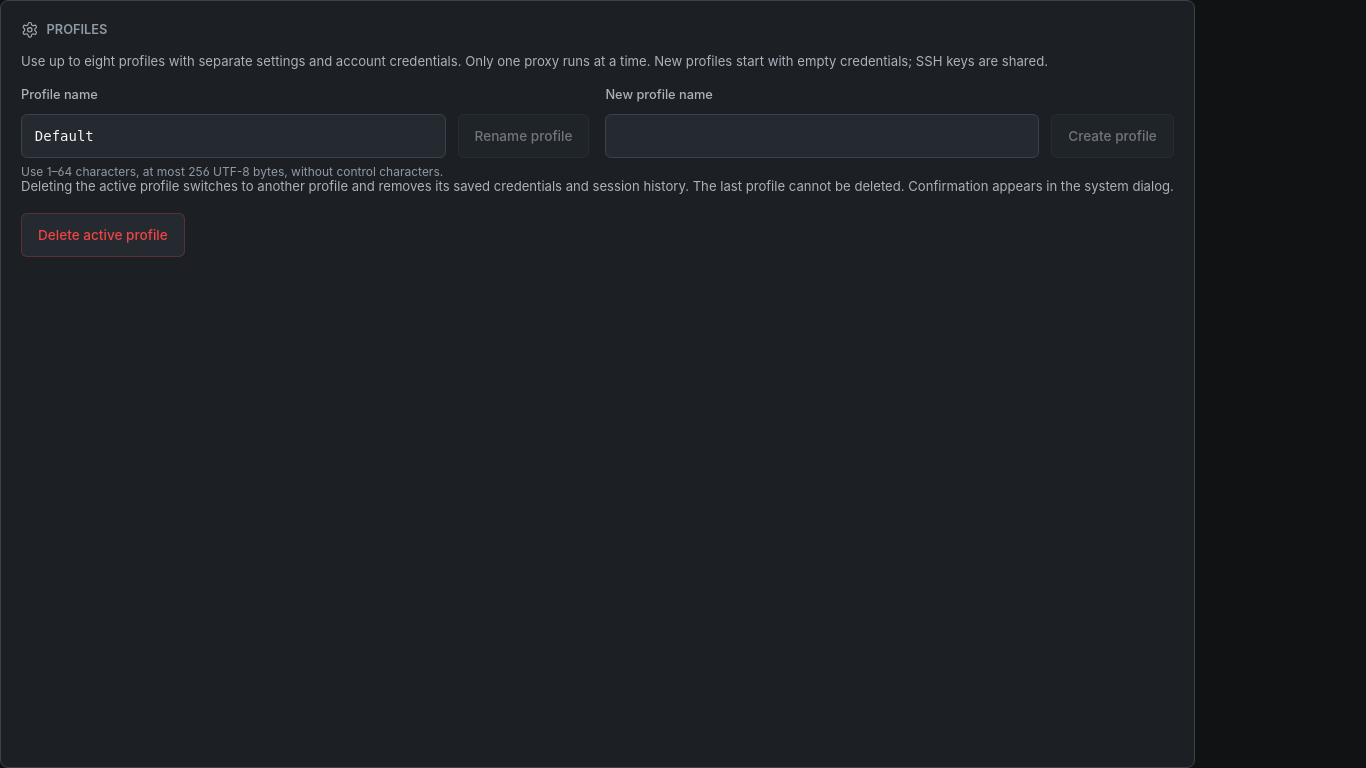
Test: preserves name drafts and never consumes them when deletion reports committed history IO failure
Replace the text in the field labelled "Profile name" with "Keep my edit": (233, 136) [21,114,446,158]
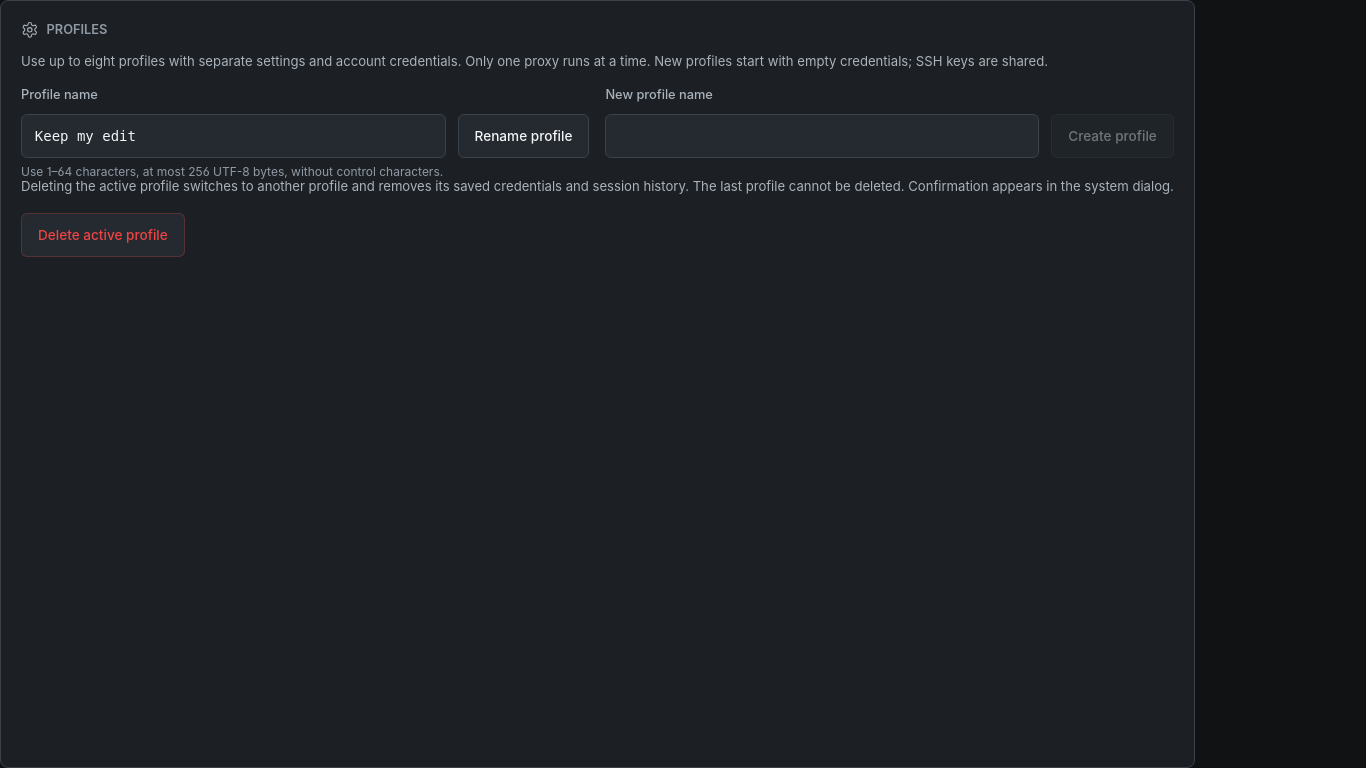
In the field labelled "New profile name": (822, 136) [605,114,1039,158], type "Keep new draft"
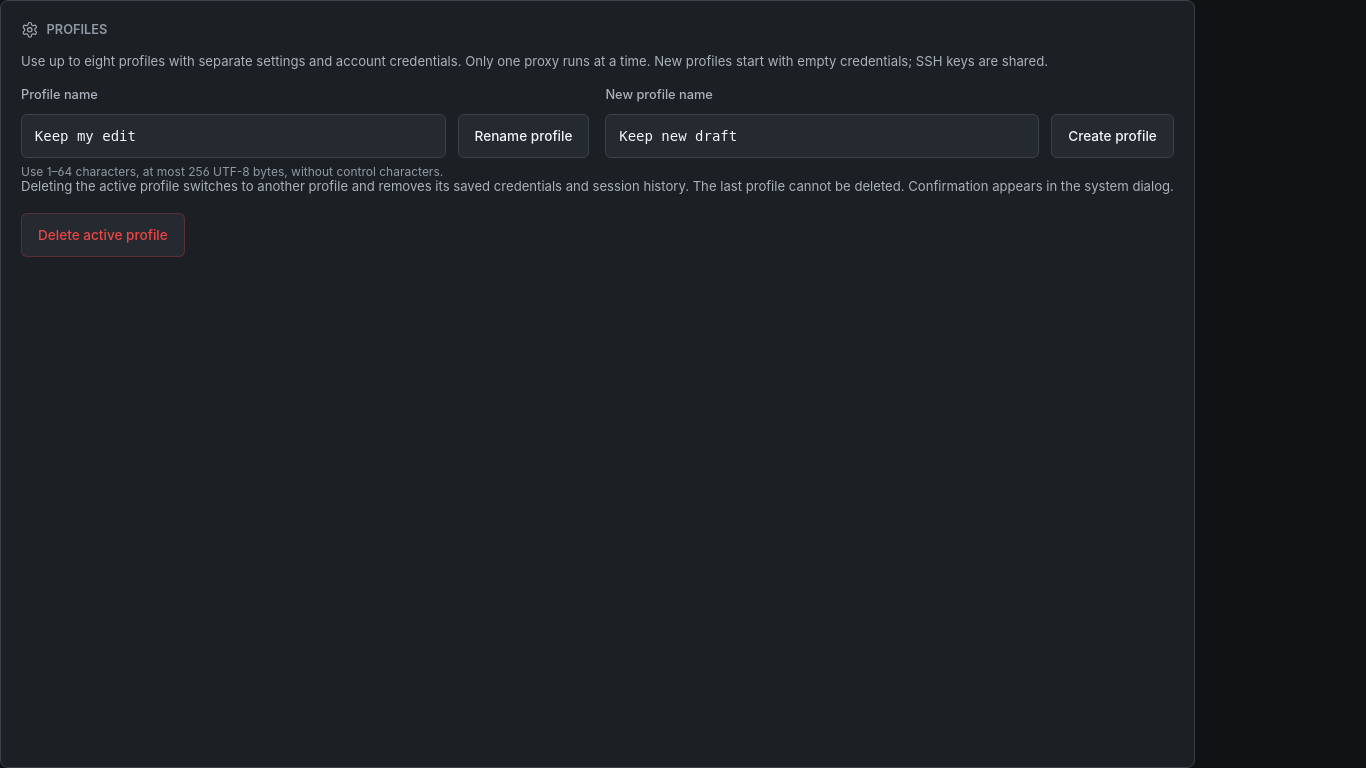
Click the button "Delete active profile": (103, 235) [21,213,185,257]
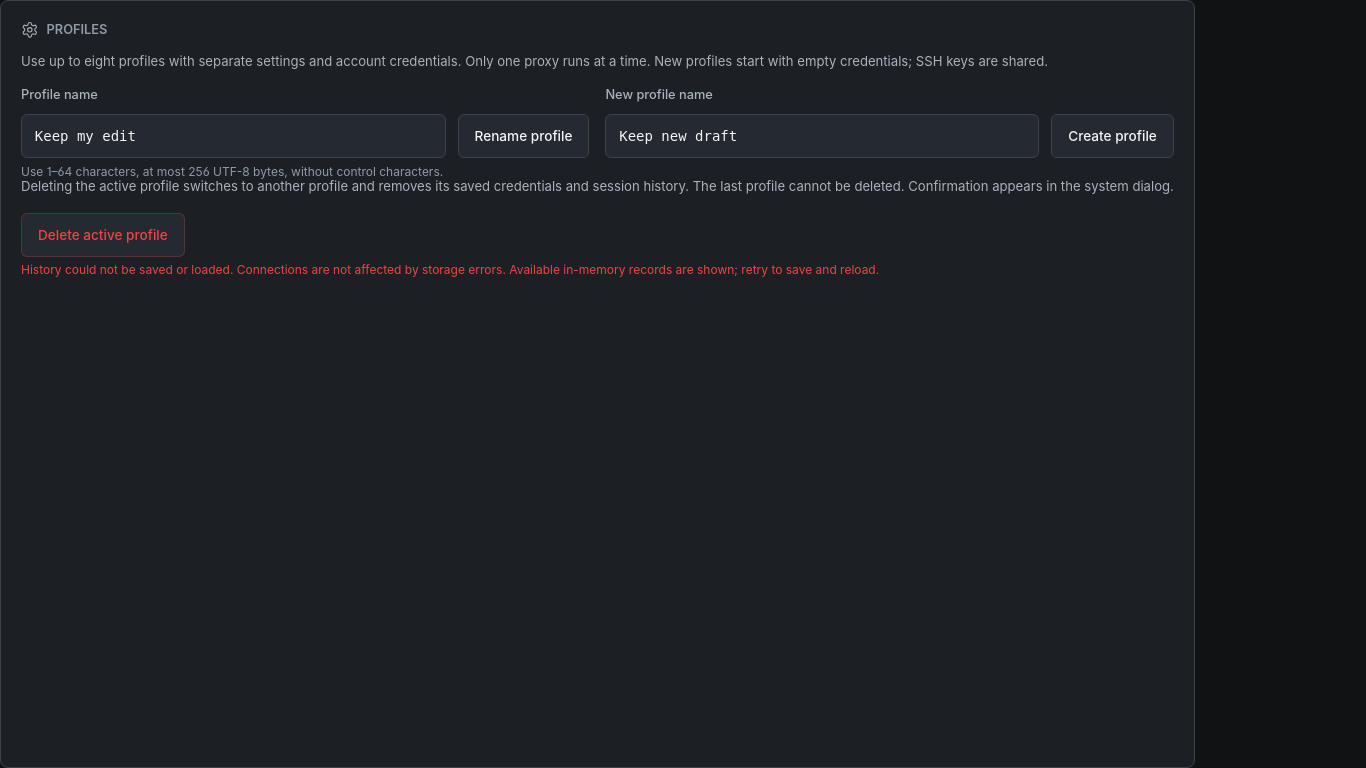
Check: the message shows "History could not be saved or loaded", box [21,262,879,277]
